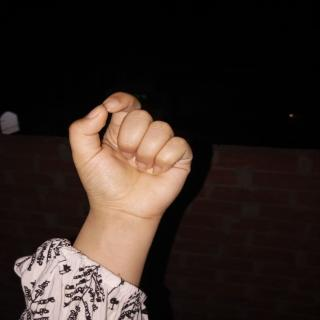FAA: (52, 82, 202, 246)
